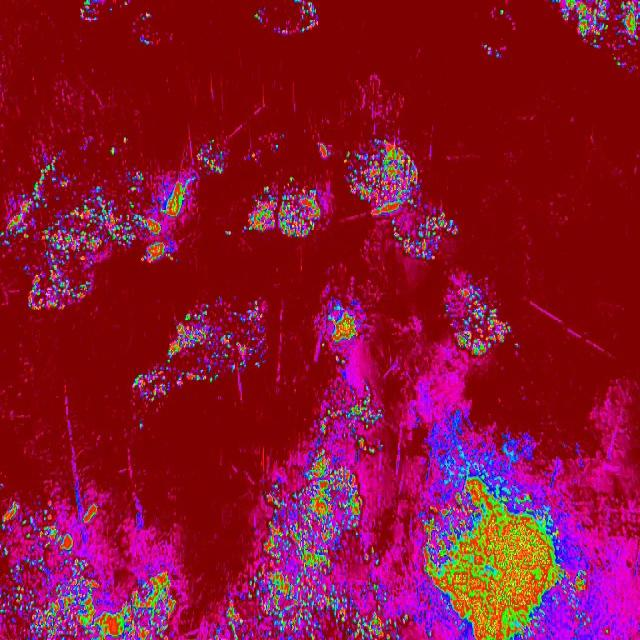fire: (417, 417, 602, 640), (252, 394, 384, 640), (0, 505, 177, 640), (0, 170, 203, 266), (172, 302, 272, 381), (350, 139, 428, 229), (243, 177, 332, 241), (446, 282, 520, 356), (545, 0, 640, 46), (394, 205, 463, 267), (306, 298, 371, 348), (22, 266, 92, 312), (124, 356, 172, 416)
